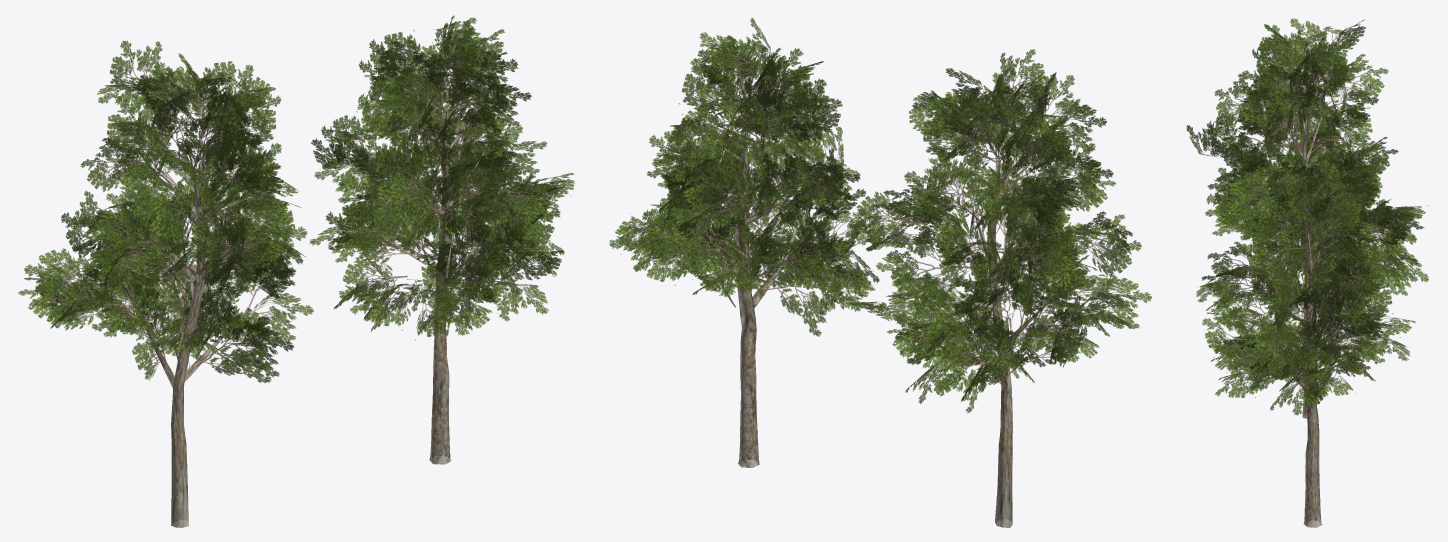
Rendered from tree1 (1).glb.
3 views of the same model, side by side, from view 1: azimuth 30°, elevation 25°; view 2: azimuth 150°, elevation 25°; view 3: azimuth 270°, elevation 25° (orthographic). The views are drawn at different scales.
Parts seen in each view (by area): view 1: Tree 1_Tree 1_0; view 2: Tree 1_Tree 1_0; view 3: Tree 1_Tree 1_0.
Boxes of the visible parts, x1,y1,x2,y2 form: Tree 1_Tree 1_0: [18, 15, 574, 527]; Tree 1_Tree 1_0: [609, 18, 1151, 527]; Tree 1_Tree 1_0: [1186, 18, 1428, 527].
Size of the model in its own units: 10.73 by 8.99 by 5.21.
Materials: 1 (1 with a texture image).
